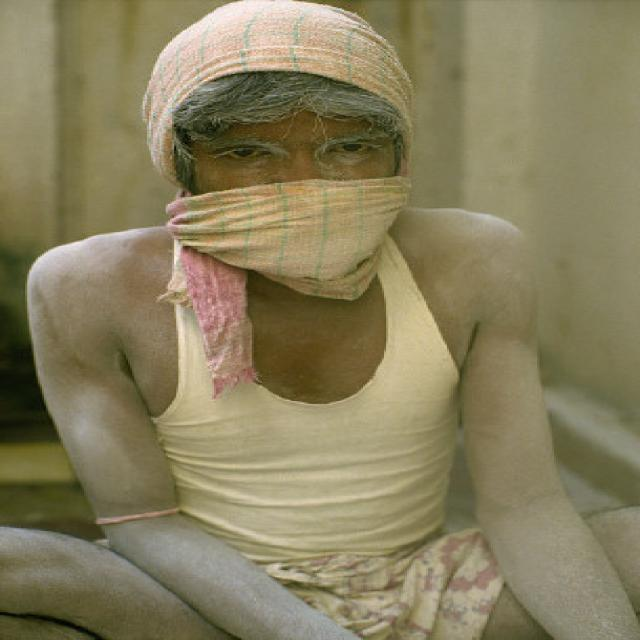mask: (195, 71, 405, 287)
